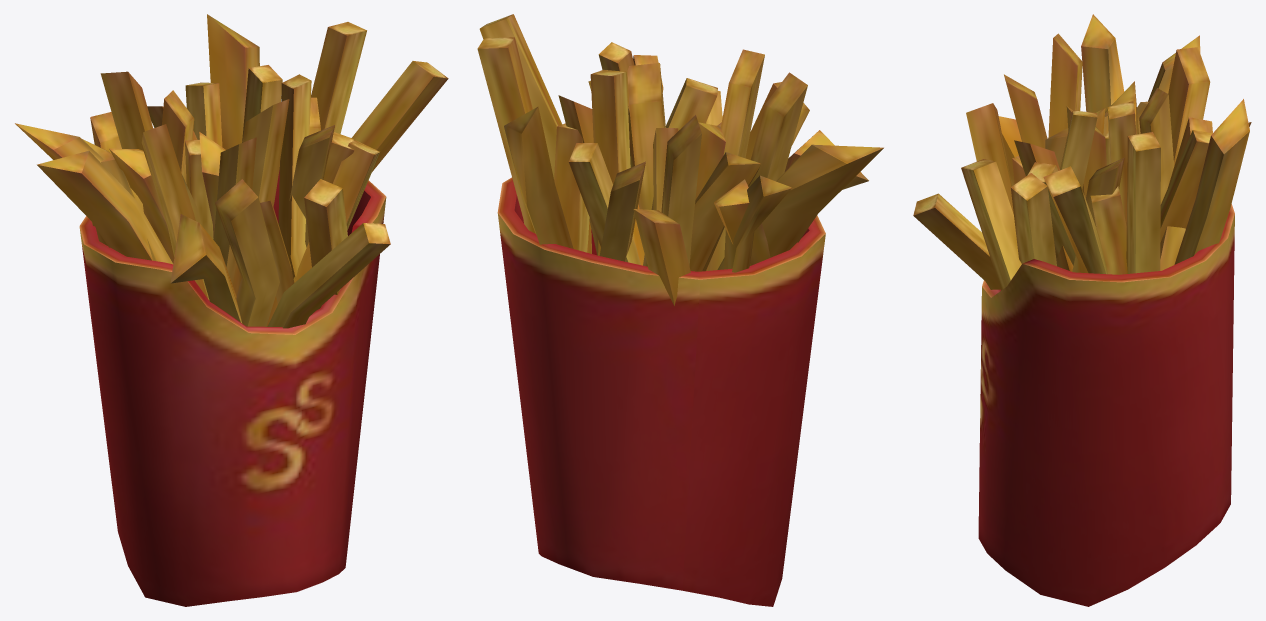
The model's file is frites.glb.
3 renders of one model, left to right at view 1: azimuth 30°, elevation 25°; view 2: azimuth 150°, elevation 25°; view 3: azimuth 270°, elevation 25°, orthographic. The views are drawn at different scales.
Visible parts, largest first — view 1: friespocketwithFries, fries.040; view 2: friespocketwithFries, fries.040; view 3: friespocketwithFries, fries.040.
Part boxes in pixels (<box>): friespocketwithFries: <box>79,170,386,606</box>; fries.040: <box>15,14,448,328</box>; friespocketwithFries: <box>497,177,825,606</box>; fries.040: <box>477,14,883,305</box>; friespocketwithFries: <box>978,204,1234,606</box>; fries.040: <box>913,14,1251,290</box>.
Bounding box in the file's own units: 0.2858 × 0.3442 × 0.2172.
1 material, 1 textured.
